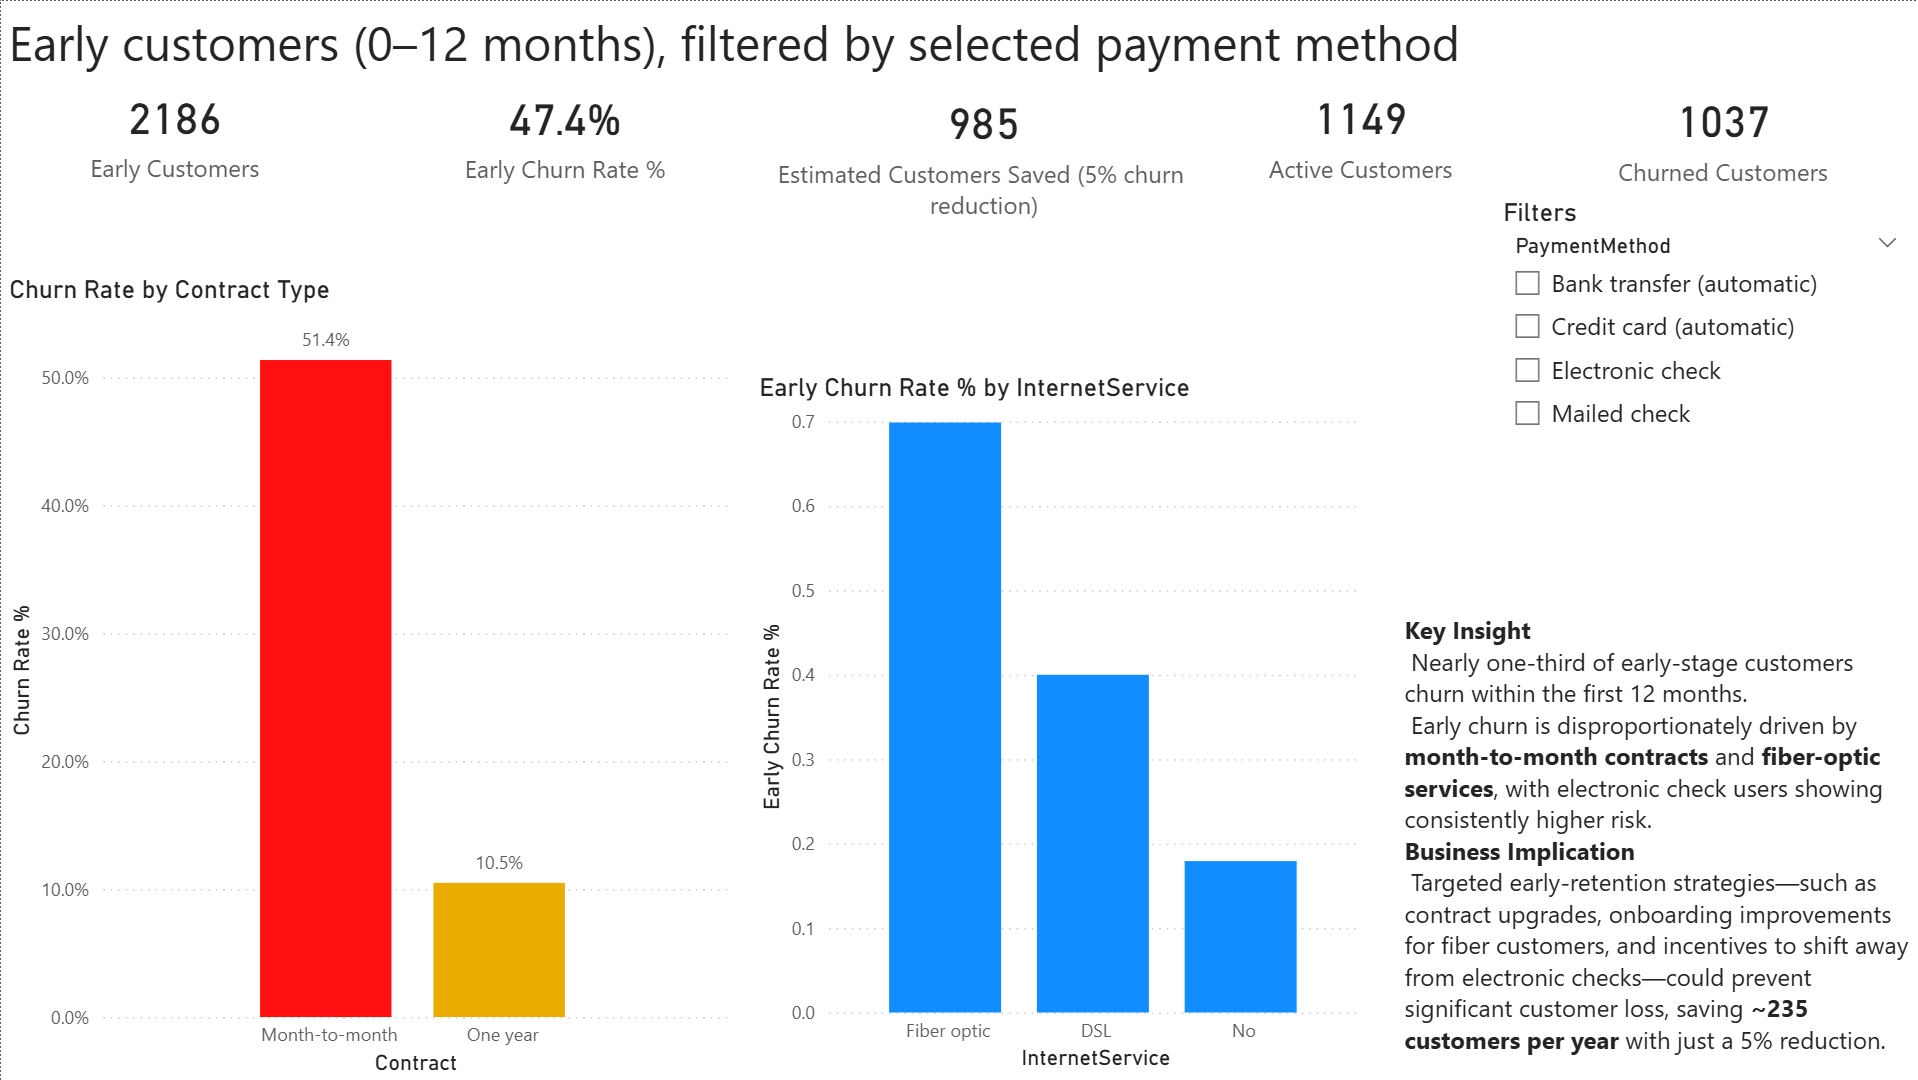

The page's visual inventory and layout, read from the dashboard file:
{"tool":"powerbi","page":{"name":"02. Early Churn & Retention Impact","canvas":[1280,720],"ordinal":1},"visuals":[{"type":"clusteredColumnChart","title":"Churn Rate by Contract Type","fields":{"Category":["customer_churn_raw.Contract"],"Y":["customer_churn_raw.Churn Rate %"]},"box":[0.8,181.7,489.2,538.3],"z":0},{"type":"card","fields":{"Values":["customer_churn_raw.Early Customers"]},"box":[0,0,231.7,174.2],"z":1000},{"type":"card","fields":{"Values":["customer_churn_raw.Early Churn Rate %"]},"box":[235.8,0,280,175],"z":2000},{"type":"card","fields":{"Values":["customer_churn_raw.Churned Customers"]},"box":[1015.8,4.2,264.2,170.8],"z":3000},{"type":"card","fields":{"Values":["customer_churn_raw.Active Customers"]},"box":[815.8,1.7,180.8,170.8],"z":4000},{"type":"clusteredColumnChart","fields":{"Category":["customer_churn_raw.InternetService"],"Y":["customer_churn_raw.Early Churn Rate %"]},"box":[500.8,247.5,411.7,470],"z":5000},{"type":"slicer","title":"Filters","fields":{"Values":["customer_churn_raw.PaymentMethod"]},"box":[996.7,130.8,280,177.5],"z":6000},{"type":"textbox","box":[930.8,403.3,349.2,316.7],"z":7000},{"type":"card","fields":{"Values":["customer_churn_raw.Estimated Customers Retained"]},"box":[501.7,5.8,306.7,169.2],"z":8000},{"type":"textbox","box":[0,0,1185.8,64.2],"z":9000}]}

Visuals, with their boxes in screenshot pixels (x1, y1, x2, y2), scaled from the page's 1280x720 canvas onto the 1918x1080 screenshot:
"Churn Rate by Contract Type" clusteredColumnChart: (1, 273, 734, 1079)
card - customer_churn_raw.Early Customers: (0, 0, 347, 261)
card - customer_churn_raw.Early Churn Rate %: (353, 0, 773, 262)
card - customer_churn_raw.Churned Customers: (1522, 6, 1917, 262)
card - customer_churn_raw.Active Customers: (1222, 3, 1493, 259)
clusteredColumnChart - customer_churn_raw.InternetService x customer_churn_raw.Early Churn Rate %: (750, 371, 1367, 1076)
"Filters" slicer: (1493, 196, 1913, 462)
textbox: (1395, 605, 1917, 1079)
card - customer_churn_raw.Estimated Customers Retained: (752, 9, 1211, 262)
textbox: (0, 0, 1777, 96)
